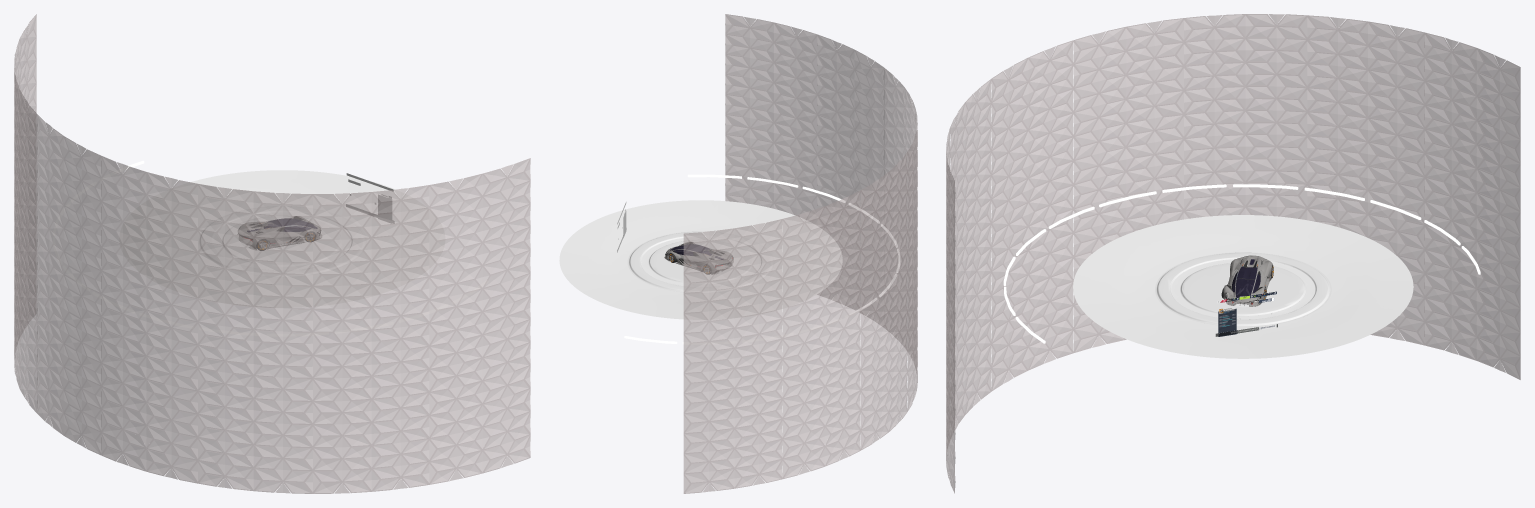
File: lamborghini-asphalt9-terzo.glb
The picture shows the model from 3 angles, left to right: view 1: azimuth 30°, elevation 25°; view 2: azimuth 150°, elevation 25°; view 3: azimuth 270°, elevation 25°; orthographic projection. The views are drawn at different scales.
Visible parts, largest first — view 1: Plane_0, Circle_2, Cube_3, Plane.005_151, chassis_carpaint_LOD2_41; view 2: Plane_0, Circle_2, Cube_3, chassis_carpaint_LOD2_41; view 3: Plane_0, Circle_2, Cube_3, Plane.005_151, chassis_carpaint_LOD2_41.
Boxes of the visible parts, x1,y1,x2,y2 form: Plane_0: (14,14,530,493); Circle_2: (119,170,444,307); Cube_3: (53,160,487,336); Plane.005_151: (346,173,394,223); chassis_carpaint_LOD2_41: (241,216,320,249); Plane_0: (683,14,917,493); Circle_2: (559,200,842,319); Cube_3: (624,174,899,344); chassis_carpaint_LOD2_41: (664,242,731,273); Plane_0: (946,14,1520,493); Circle_2: (1073,215,1413,358); Cube_3: (1003,184,1480,343); Plane.005_151: (1215,291,1277,336); chassis_carpaint_LOD2_41: (1223,257,1273,306).
Size of what is drawn, in the model's own units: 44 by 35.16 by 58.46.
59 materials, 11 textured.
